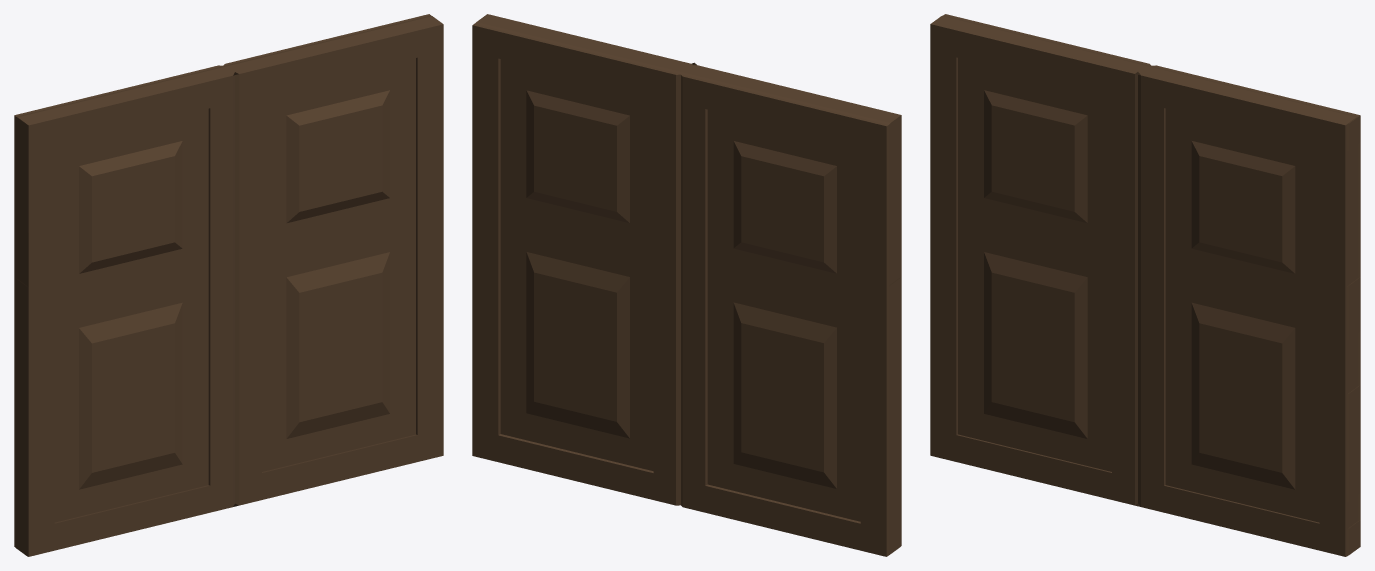
The model's file is doubledoorsclosed.fbx.
3 views of the same model, side by side, from view 1: azimuth 30°, elevation 25°; view 2: azimuth 150°, elevation 25°; view 3: azimuth 330°, elevation 25° (orthographic).
Visible parts, largest first — view 1: doubledoorsclosed; view 2: doubledoorsclosed; view 3: doubledoorsclosed.
Boxes of the visible parts, box(x1,y1,x2,y2) form: doubledoorsclosed: box(14, 14, 443, 556); doubledoorsclosed: box(472, 14, 901, 556); doubledoorsclosed: box(930, 14, 1360, 556).
Bounding box in the file's own units: 757 × 757 × 51.71.
